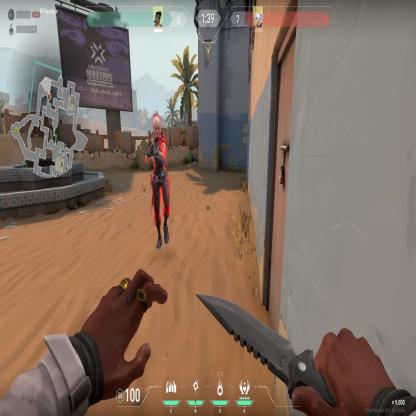enemy: (146, 110, 172, 251)
